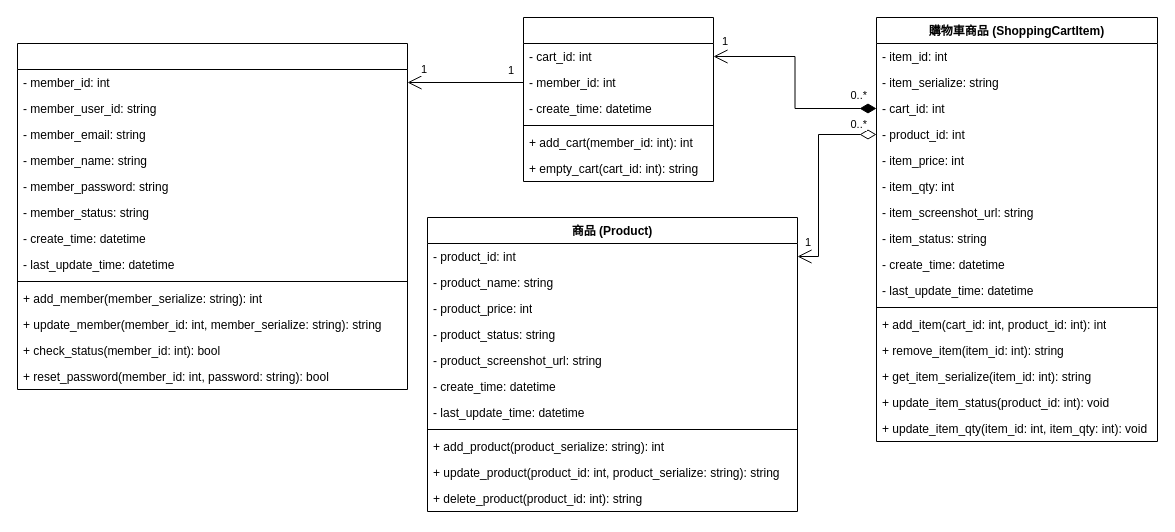
The diagram is 1175 pixels wide and 532 high, and some of its shapes have lost their labels. The box of each missing label's shape, as (x1, y1, x2, y2) in pixels:
會員 (Member): (16, 42, 408, 390)
購物車 (ShoppingCart): (522, 16, 714, 182)
